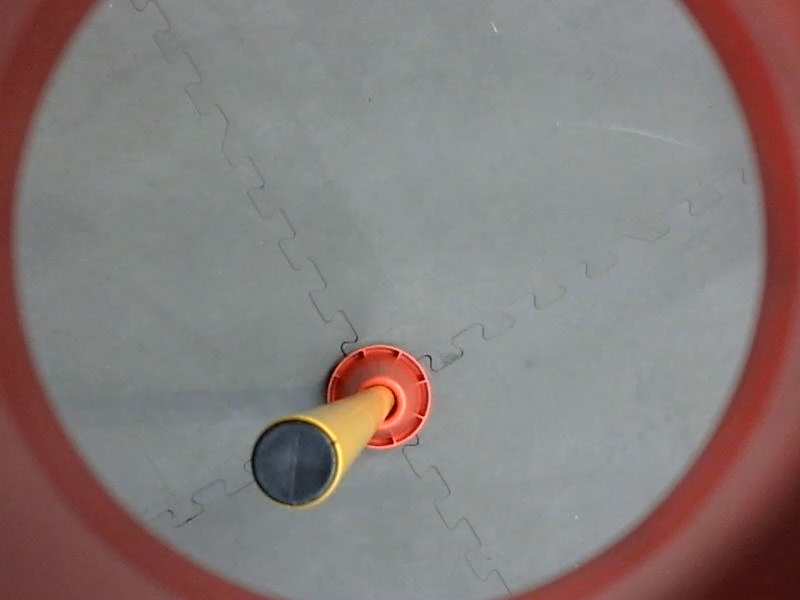tip: (245, 413, 352, 515)
